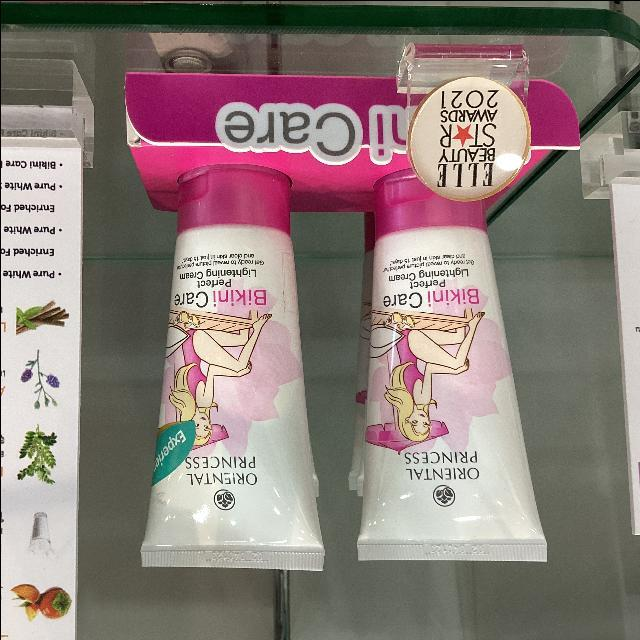Squeeze Tube: (107, 100, 630, 586), (345, 161, 573, 571), (121, 164, 340, 585)
